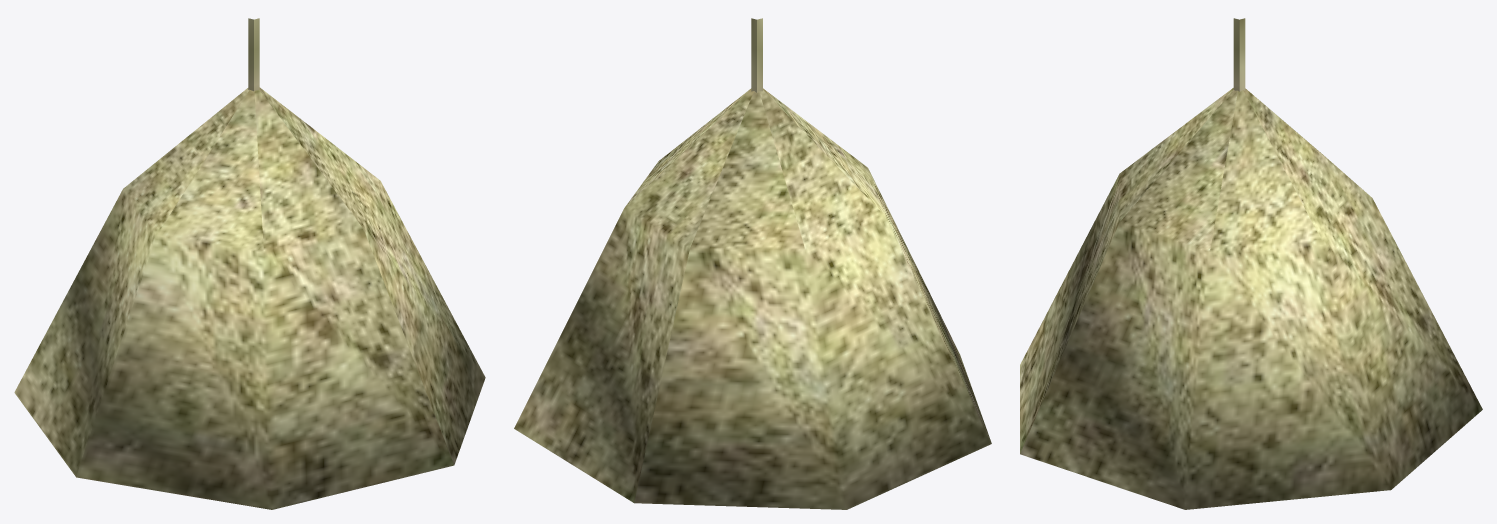
File: haystack.glb
The picture shows the model from 3 angles, left to right: view 1: azimuth 30°, elevation 25°; view 2: azimuth 150°, elevation 25°; view 3: azimuth 270°, elevation 25°; orthographic projection.
Visible parts, largest first — view 1: haystack; view 2: haystack; view 3: haystack.
Part boxes in pixels (bbox=[...]): haystack: bbox=[14, 18, 485, 509]; haystack: bbox=[514, 18, 991, 509]; haystack: bbox=[1020, 18, 1482, 509].
Bounding box in the file's own units: 3.57 × 3.26 × 3.48.
Materials: 1 (1 with a texture image).
